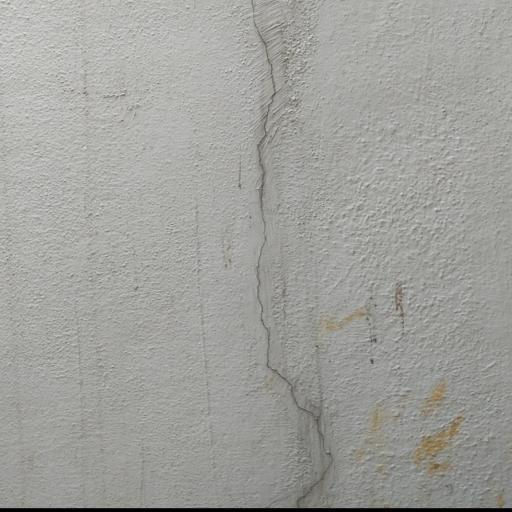minor_crack: (191, 12, 389, 512)
